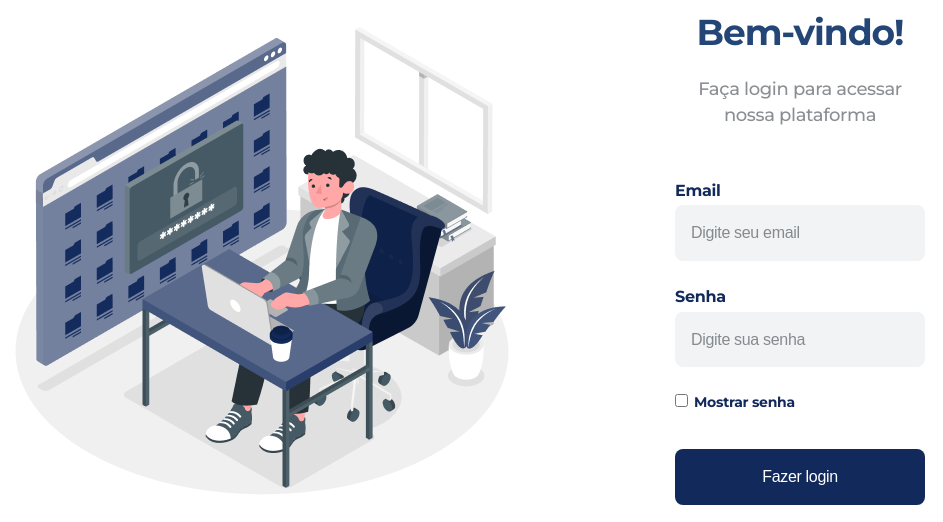
Test: Exibe mensagem de erro caso sejam enviadas credenciais inválidas › Exibe mensagem "Usuário ou senha incorretos"
Type "email@email.com" into the field labelled "Email".
click(800, 233); type("email@email.com")  # box x1=675 y1=205 x2=925 y2=261
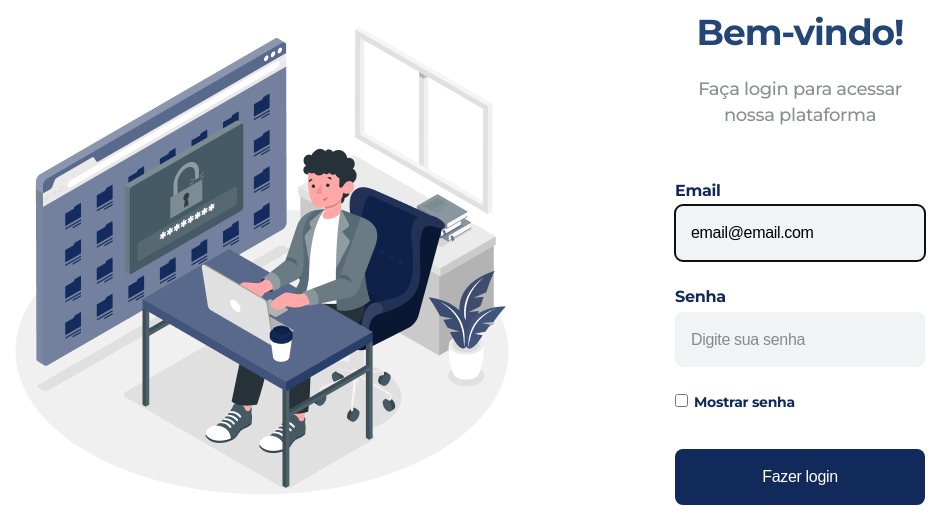
Type "123456" into the password field labelled "Senha".
click(800, 340); type("123456")  # box x1=675 y1=312 x2=925 y2=367
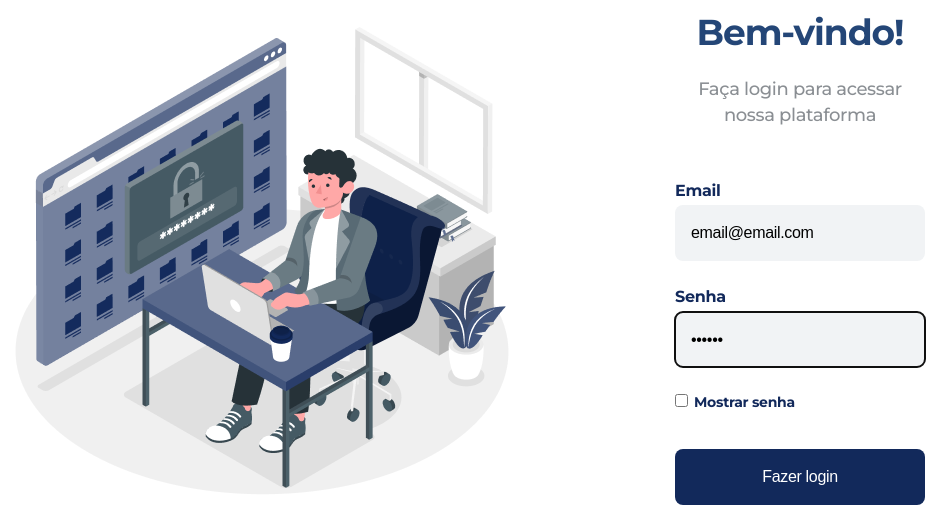
Click the button "Fazer login".
click(800, 477)  # box x1=675 y1=449 x2=925 y2=505
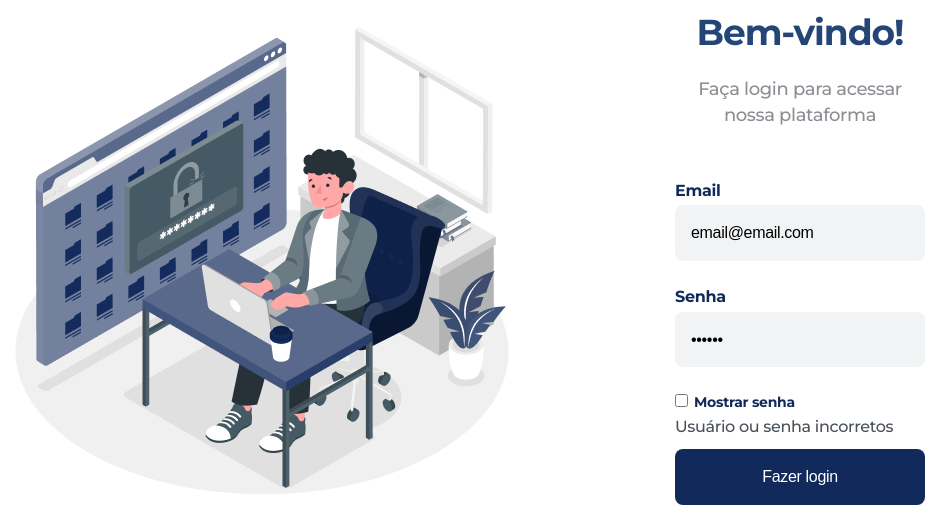
Expected: the text "Usuário ou senha incorretos" is shown, x1=675 y1=415 x2=925 y2=441
